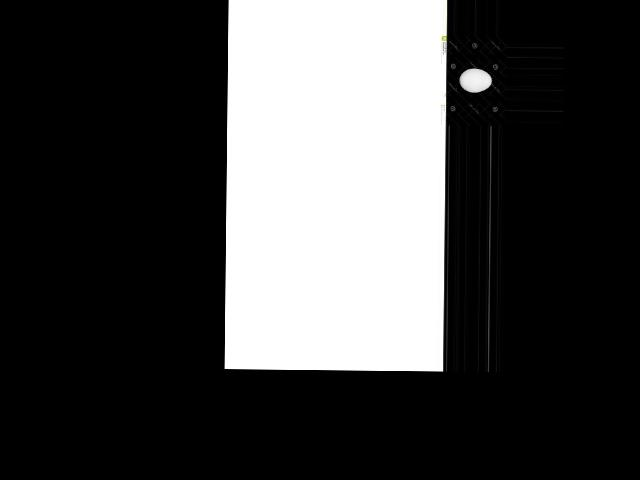egg: (459, 68, 491, 93)
